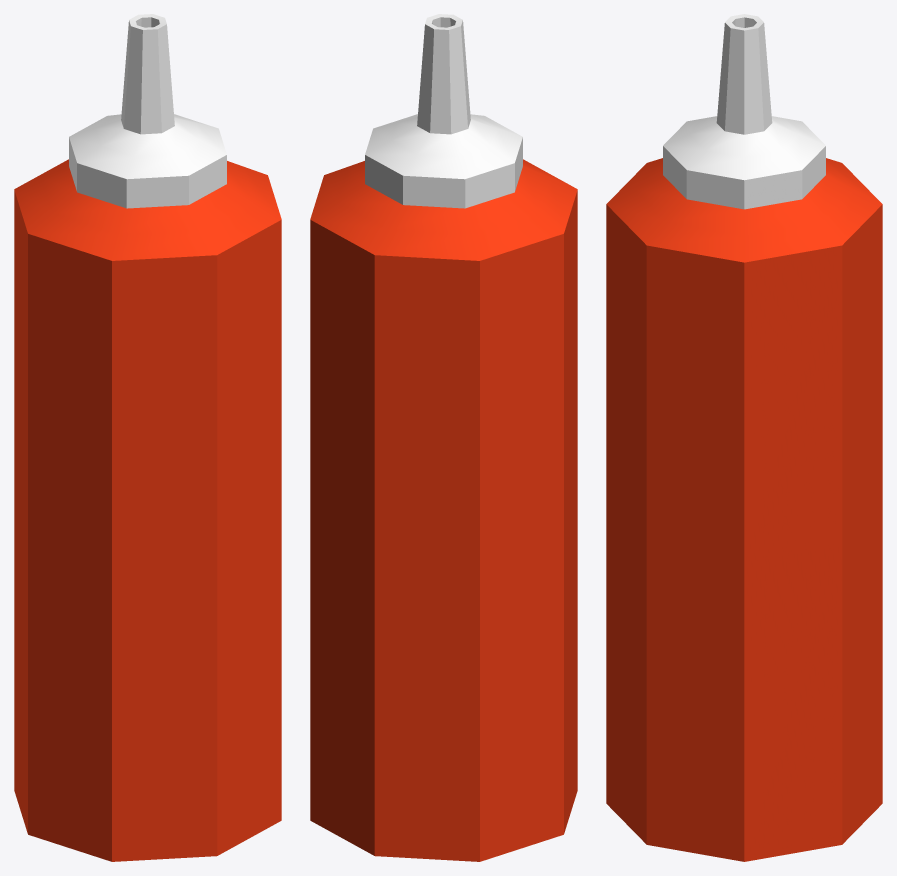
File: SauceB.fbx
3 renders of one model, left to right at view 1: azimuth 30°, elevation 25°; view 2: azimuth 150°, elevation 25°; view 3: azimuth 270°, elevation 25°, orthographic.
Visible parts, largest first — view 1: SauceB; view 2: SauceB; view 3: SauceB.
Part boxes in pixels (x1=…): SauceB: x1=14, y1=14, x2=281, y2=861; SauceB: x1=310, y1=14, x2=577, y2=861; SauceB: x1=606, y1=14, x2=882, y2=861.
Size of the model in its own units: 85.64 by 267 by 85.64.
